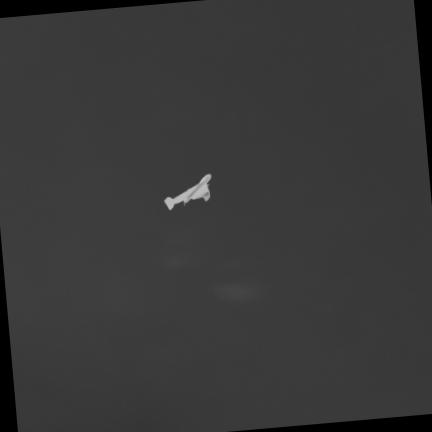Shahed: (165, 174, 211, 210)
